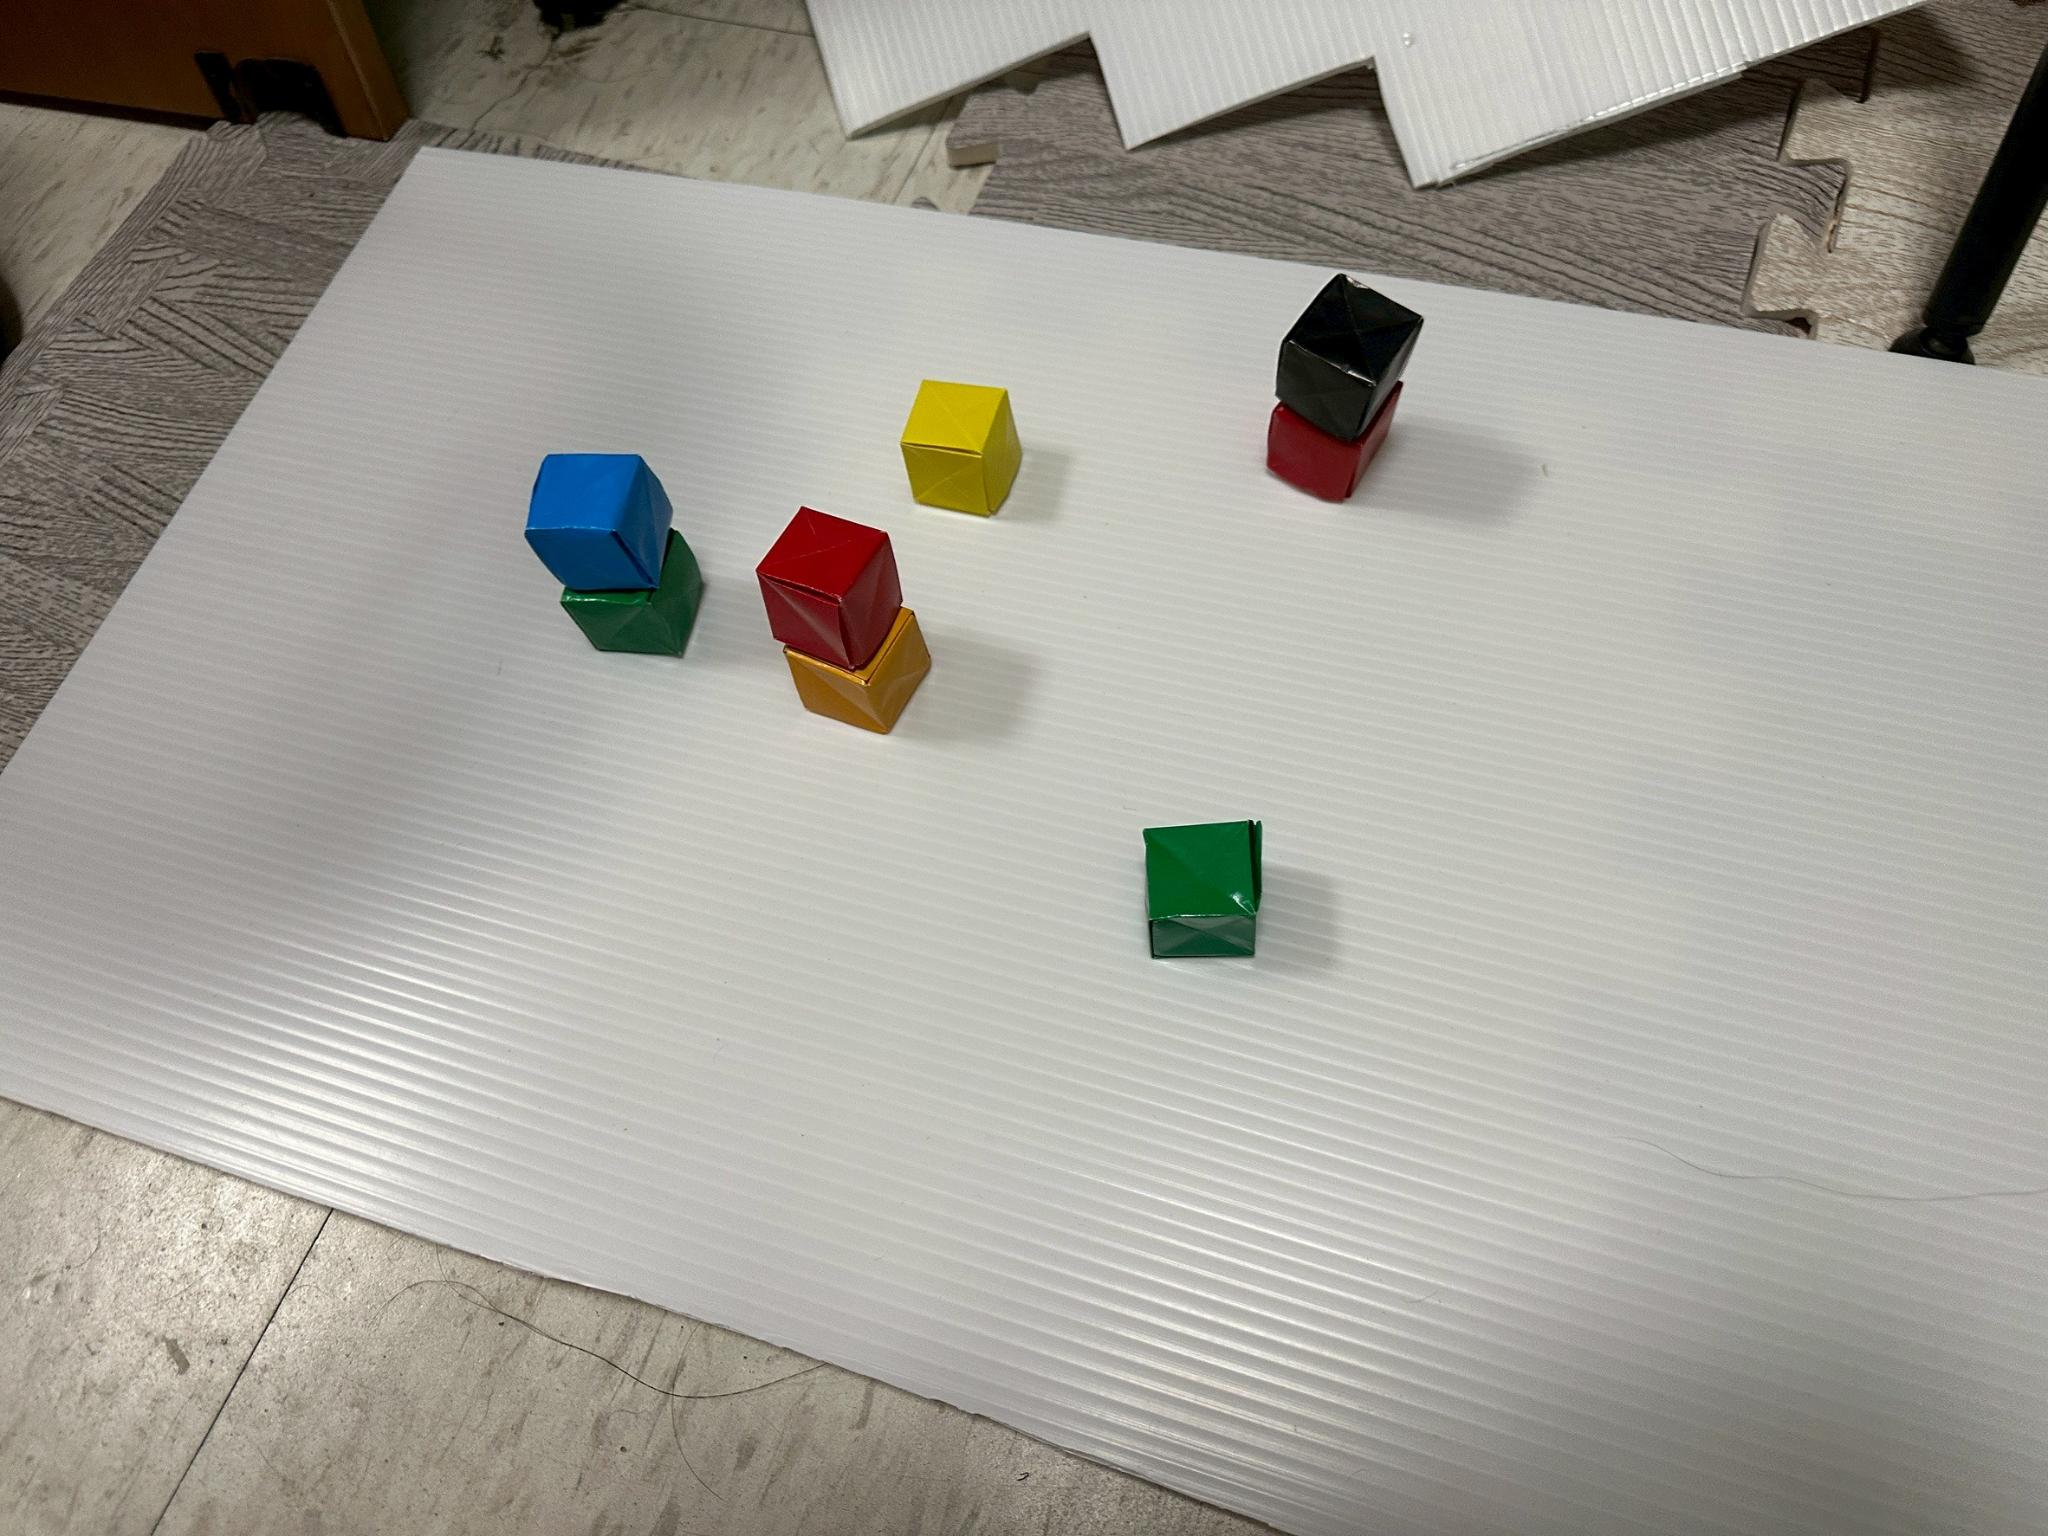base: (1276, 273, 1422, 440), (758, 508, 901, 671), (524, 455, 671, 591), (785, 608, 930, 734), (561, 531, 703, 657), (901, 381, 1021, 515), (1143, 821, 1261, 957), (1268, 384, 1401, 502)
